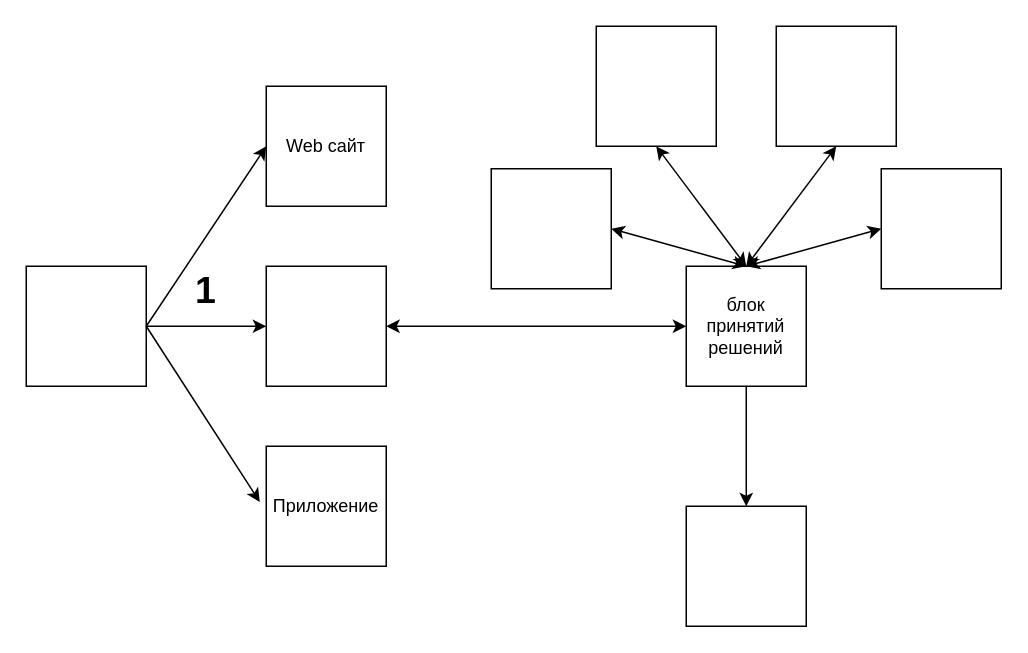
Image size: 1028x653. Some labels were removed from this diagram. Here are the shapes that lost their labels. From the top down, the centre of each, then its label:
At (x=85, y=325): "клиент".
At (x=325, y=325): "отеделение банка".
